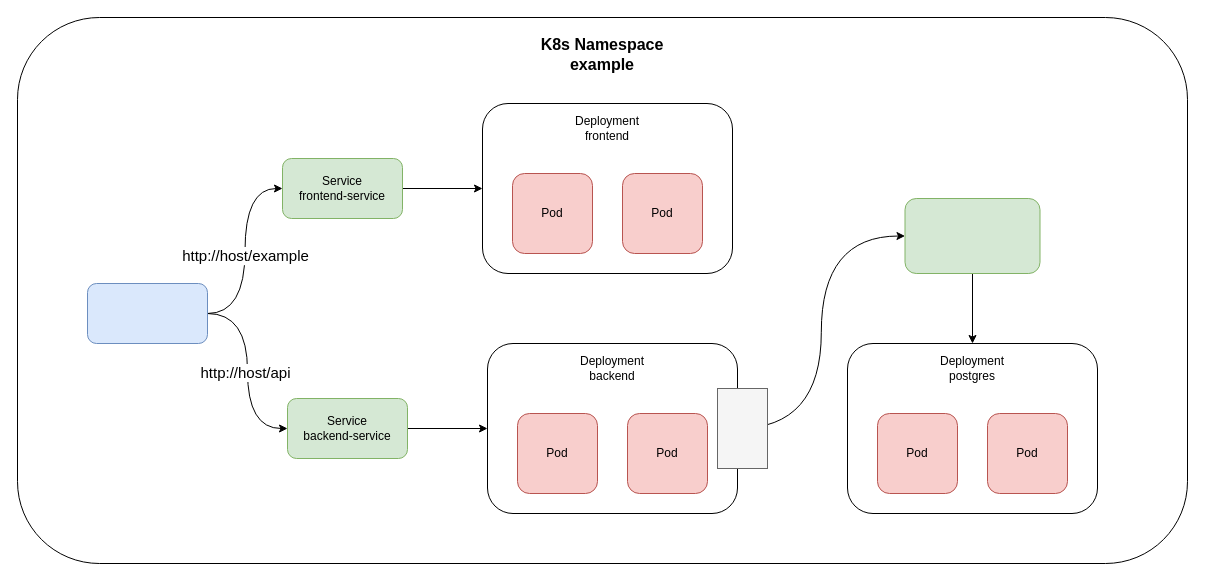
Image size: 1205x581. Some labels were removed from this diagram. Each missing label, with the box of its shape:
HPA: (716, 388, 768, 468)
Ingress: (86, 282, 208, 344)
Service postgres-service: (904, 198, 1040, 274)
